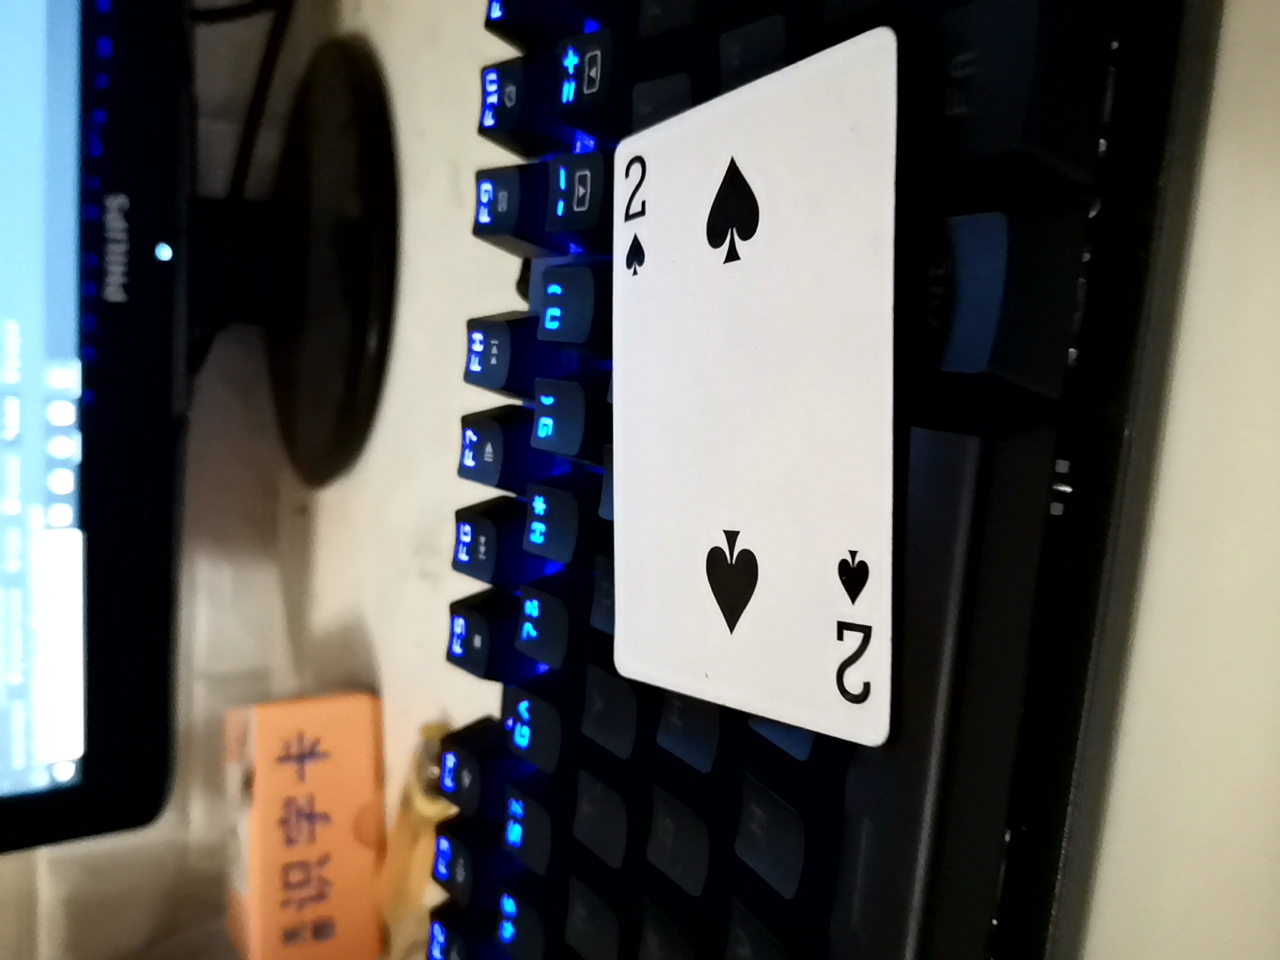ht 2: (600, 24, 895, 756)
